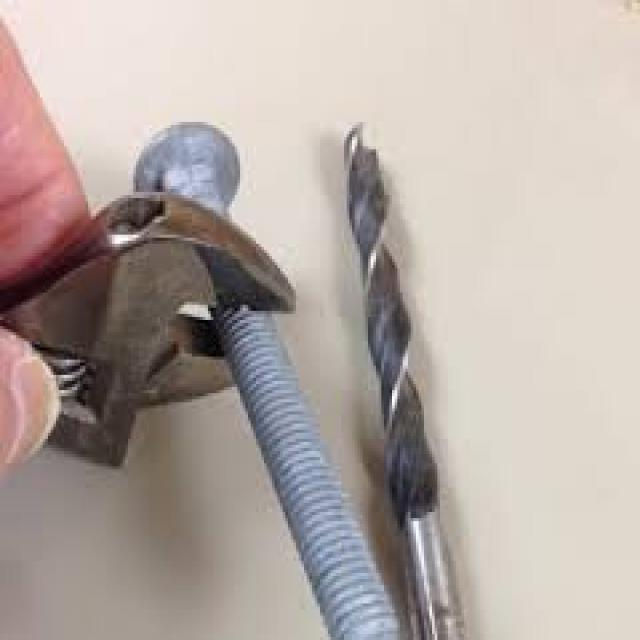wrench: (0, 182, 306, 472)
